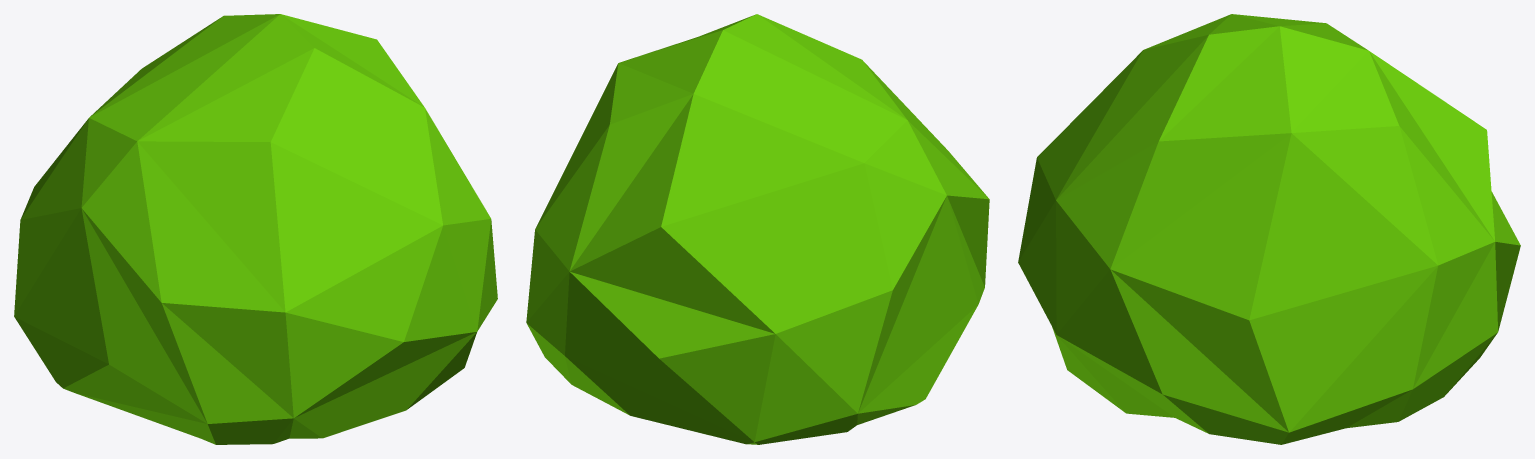
File: Arbusto.FBX
The picture shows the model from 3 angles, left to right: view 1: azimuth 30°, elevation 25°; view 2: azimuth 150°, elevation 25°; view 3: azimuth 270°, elevation 25°; orthographic projection. The views are drawn at different scales.
Visible parts, largest first — view 1: tree_3; view 2: tree_3; view 3: tree_3.
Boxes of the visible parts, x1,y1,x2,y2 form: tree_3: (14,14,497,444); tree_3: (526,14,989,444); tree_3: (1018,14,1520,444).
Size of the model in its own units: 365 by 283 by 387.
